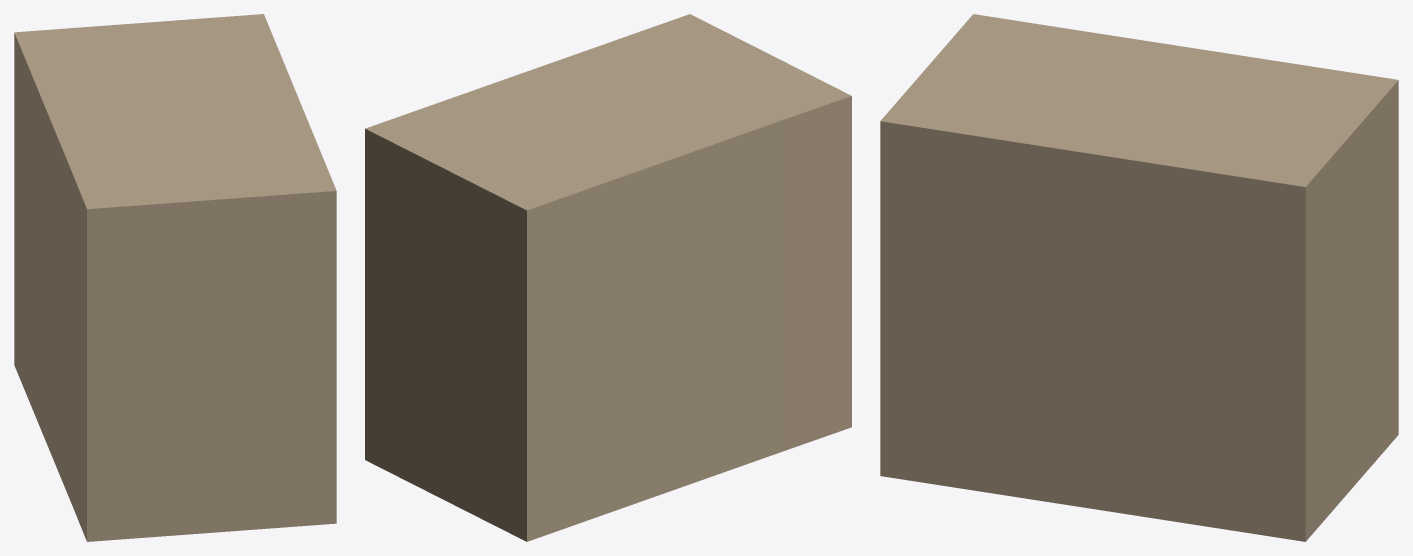
File: bld_99519961.dae
The picture shows the model from 3 angles, left to right: view 1: azimuth 30°, elevation 25°; view 2: azimuth 150°, elevation 25°; view 3: azimuth 270°, elevation 25°; orthographic projection. The views are drawn at different scales.
Parts seen in each view (by area): view 1: bld_99519961; view 2: bld_99519961; view 3: bld_99519961.
Part boxes in pixels (x1,y1,x2,y2): bld_99519961: [14, 14, 336, 541]; bld_99519961: [365, 14, 851, 541]; bld_99519961: [880, 14, 1398, 541].
Bounding box in the file's own units: 8.37 × 10.59 × 8.
